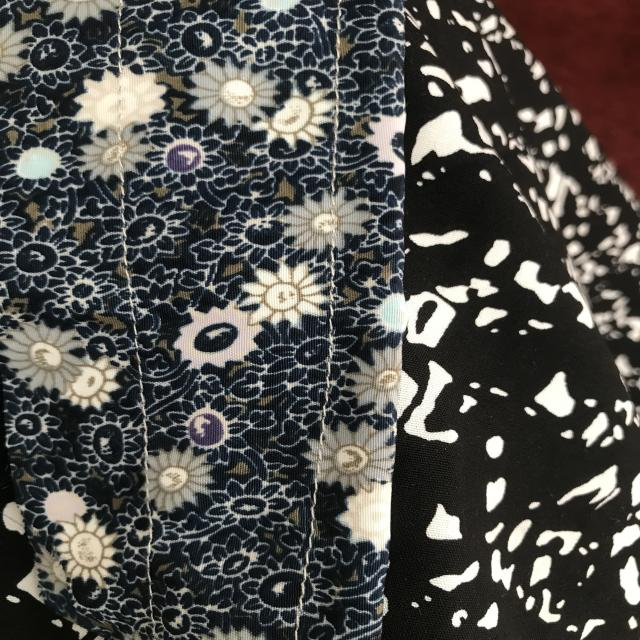good: (120, 322, 158, 440), (312, 257, 342, 387), (108, 188, 142, 300), (307, 492, 321, 584)
